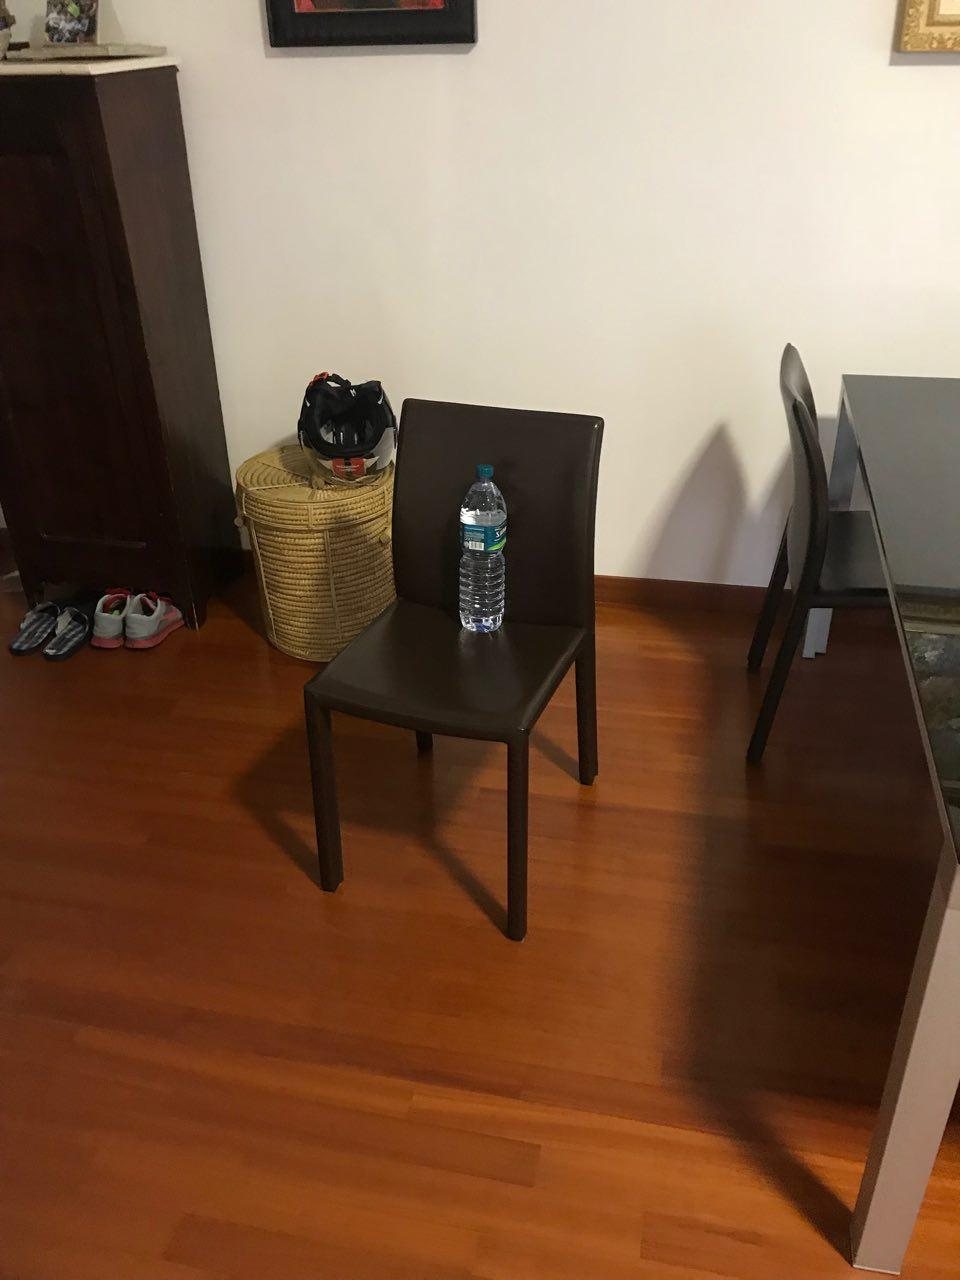san_bernardo: (457, 463, 507, 632)
